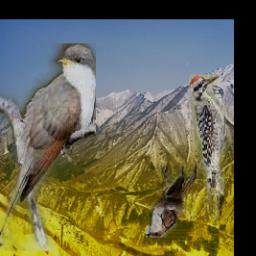Cuckoo: (0, 43, 97, 251), (147, 163, 205, 238)
Woodpecker: (190, 74, 227, 220)
